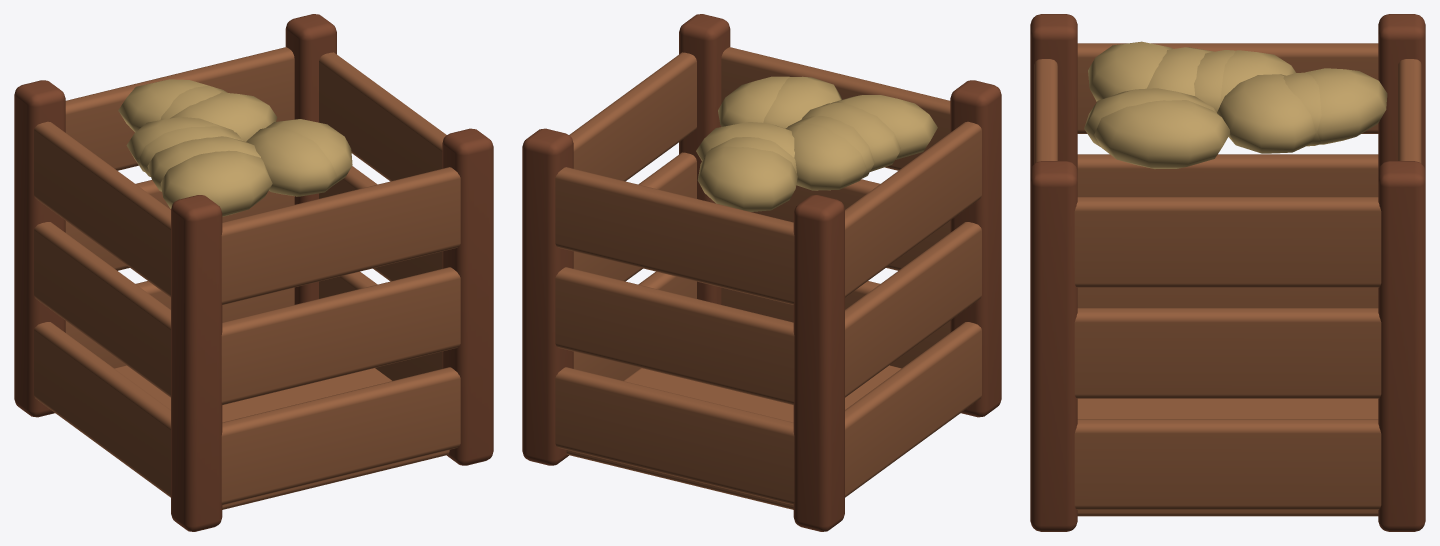
Rendered from wooden-crate.glb.
The picture shows the model from 3 angles, left to right: view 1: azimuth 30°, elevation 25°; view 2: azimuth 150°, elevation 25°; view 3: azimuth 270°, elevation 25°; orthographic projection. The views are drawn at different scales.
Parts seen in each view (by area): view 1: wooden-crate; view 2: wooden-crate; view 3: wooden-crate.
Part boxes in pixels (<box>): wooden-crate: <box>14,14,493,531</box>; wooden-crate: <box>522,14,1001,531</box>; wooden-crate: <box>1030,14,1425,531</box>.
Bounding box in the file's own units: 0.5 × 0.5005 × 0.5.
